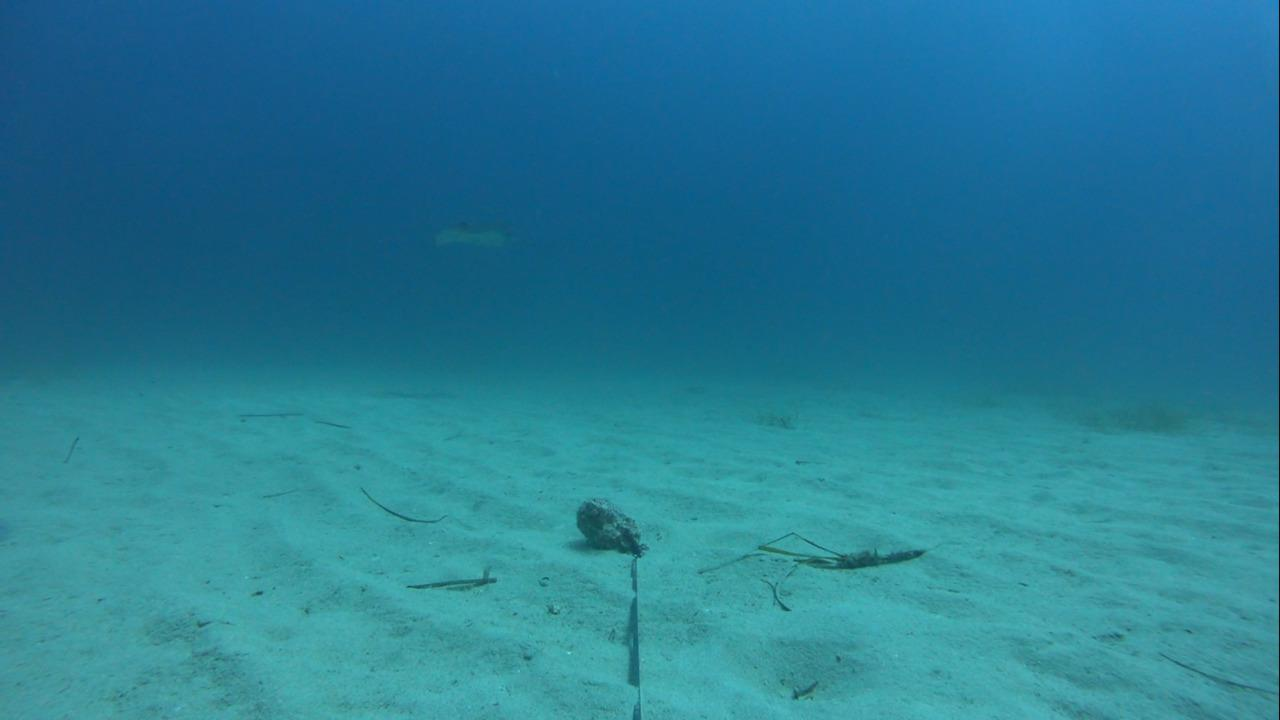myliobatis: (418, 209, 536, 261)
